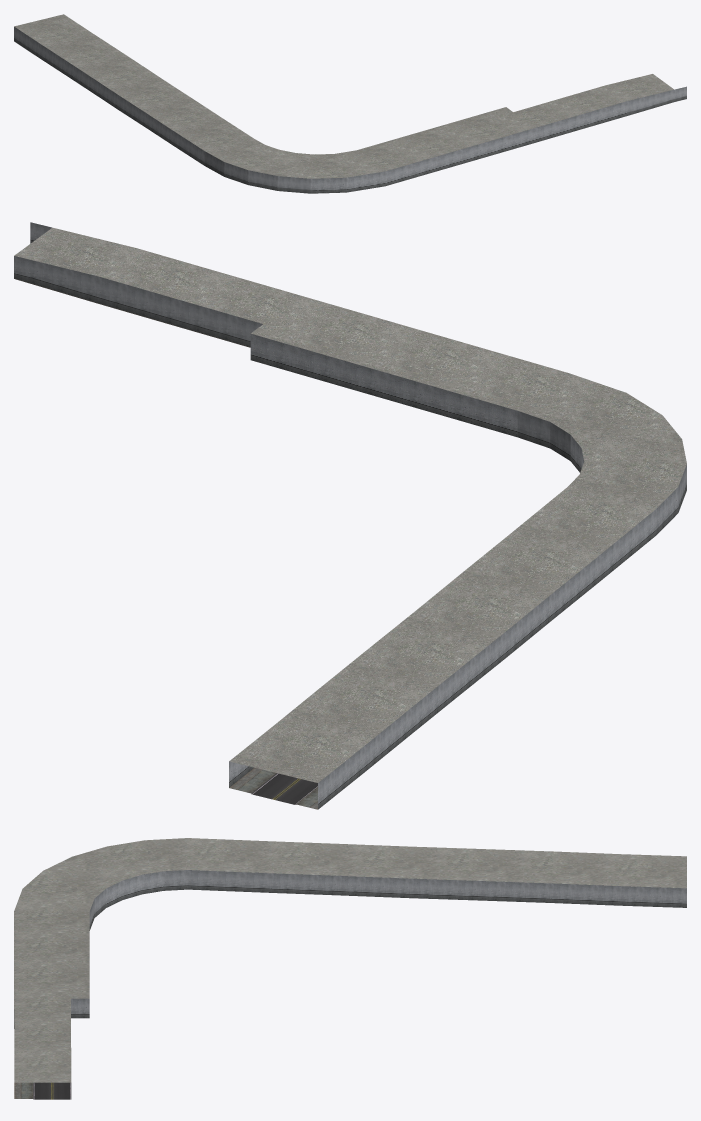
The model's file is lasundrairprt1.obj.
3 views of the same model, one above another, from view 1: azimuth 30°, elevation 25°; view 2: azimuth 150°, elevation 25°; view 3: azimuth 270°, elevation 25° (orthographic). The views are drawn at different scales.
Visible parts, largest first — view 1: lasundrairprt1; view 2: lasundrairprt1; view 3: lasundrairprt1.
Part boxes in pixels (x1=…): lasundrairprt1: x1=14, y1=14, x2=686, y2=193; lasundrairprt1: x1=14, y1=222, x2=686, y2=809; lasundrairprt1: x1=14, y1=838, x2=686, y2=1099.
Size of the model in its own units: 167 by 15.6 by 178.
